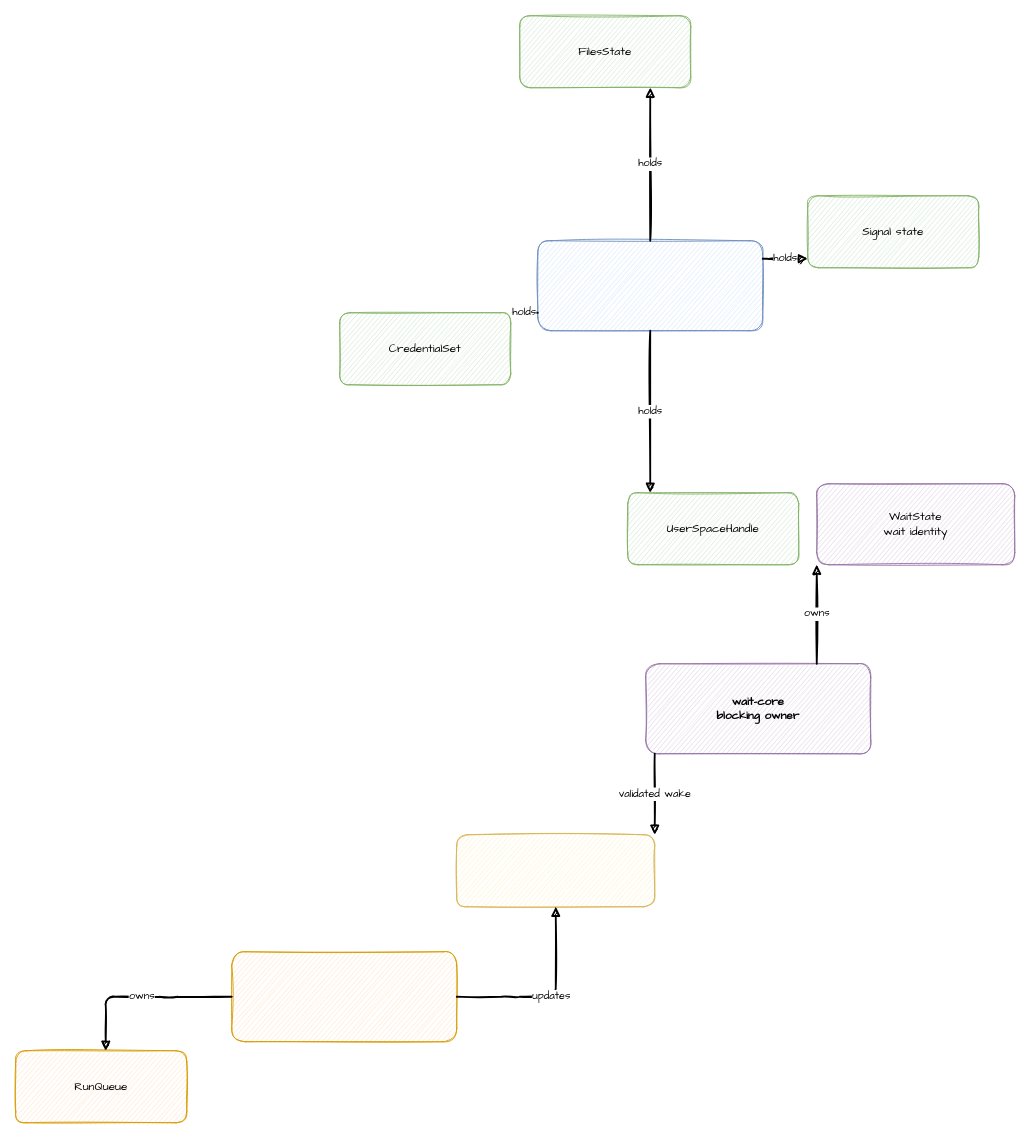
The diagram is 1031 pixels wide and 1139 high, and some of its shapes have lost their labels. Each missing label, with the box of its shape:
scheduler runnable owner: (231, 951, 457, 1042)
Task identity + execution context: (537, 240, 763, 331)
TaskSchedState: (456, 834, 655, 907)
